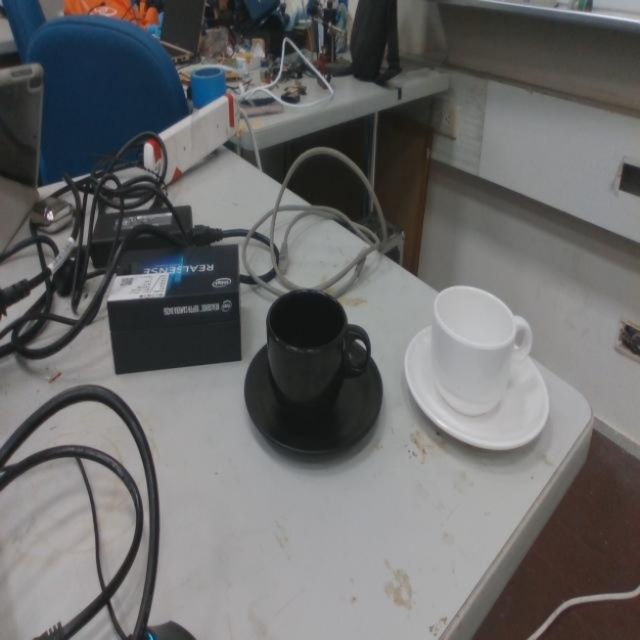black: (242, 284, 386, 468)
white: (402, 281, 552, 458)
